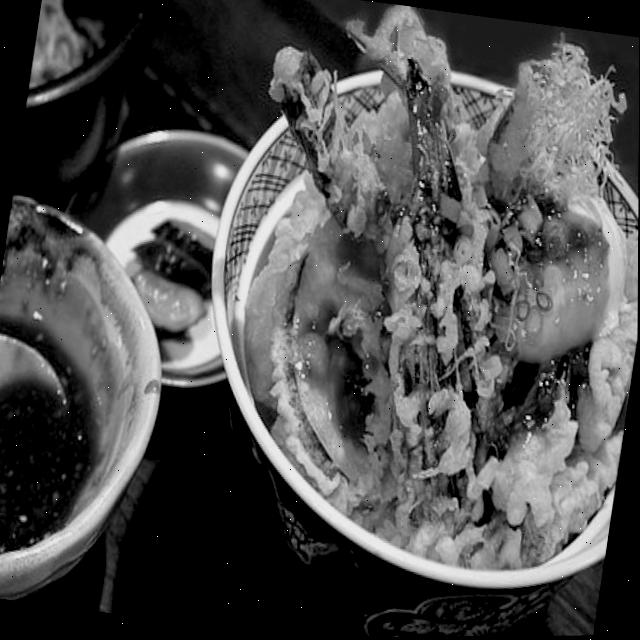熟制海鲜: (155, 0, 640, 639)
